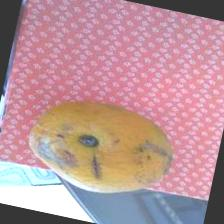Orange Rotten: (13, 83, 196, 216)
